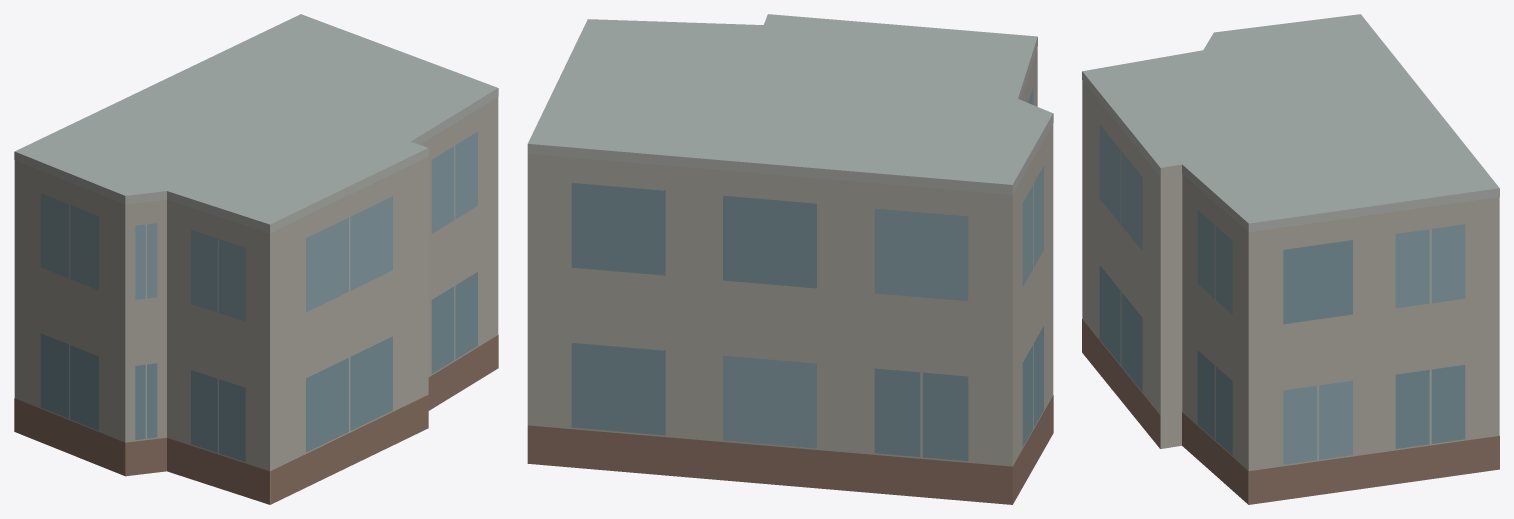
Rendered from survey-upis-33013169.glb.
3 renders of one model, left to right at view 1: azimuth 30°, elevation 25°; view 2: azimuth 150°, elevation 25°; view 3: azimuth 270°, elevation 25°, orthographic. The views are drawn at different scales.
Parts seen in each view (by area): view 1: survey-upis-33013169.tmp; view 2: survey-upis-33013169.tmp; view 3: survey-upis-33013169.tmp.
Boxes of the visible parts, box(x1,y1,x2,y2) form: survey-upis-33013169.tmp: box(14, 14, 498, 504); survey-upis-33013169.tmp: box(527, 14, 1053, 504); survey-upis-33013169.tmp: box(1082, 14, 1499, 504).
Bounding box in the file's own units: 12.63 × 7.9 × 10.64.
